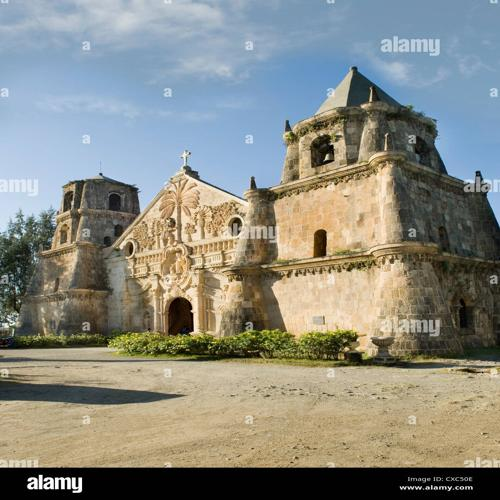Miagao Church: (24, 67, 492, 360)
